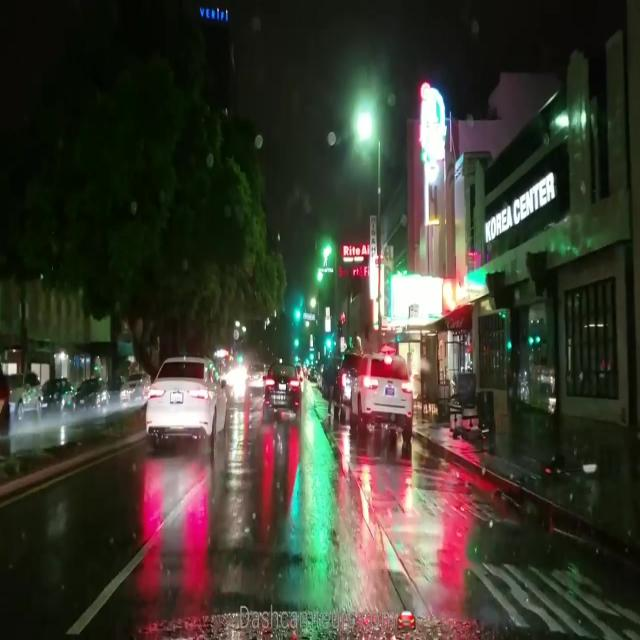Car: (145, 357, 228, 447), (348, 353, 413, 440), (261, 361, 299, 414)
